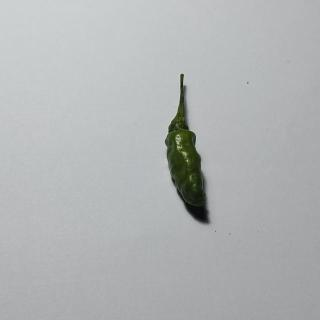Cabai Hijau: (160, 68, 220, 221)
